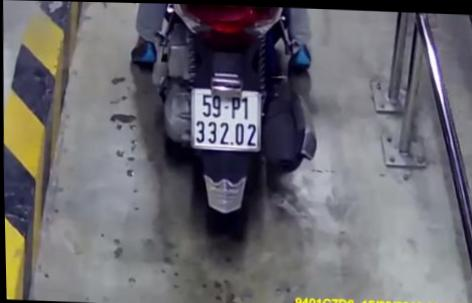LP: (189, 87, 263, 151)
